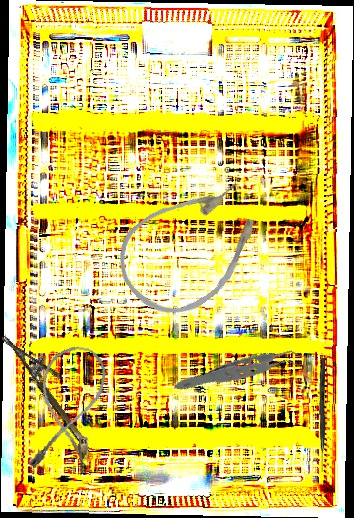Cannula: (101, 161, 283, 334), (25, 340, 111, 479)
Hook Surgical: (318, 358, 327, 472)
Needle Holder: (1, 322, 99, 444)
Tissue Forceps: (173, 320, 312, 426)
